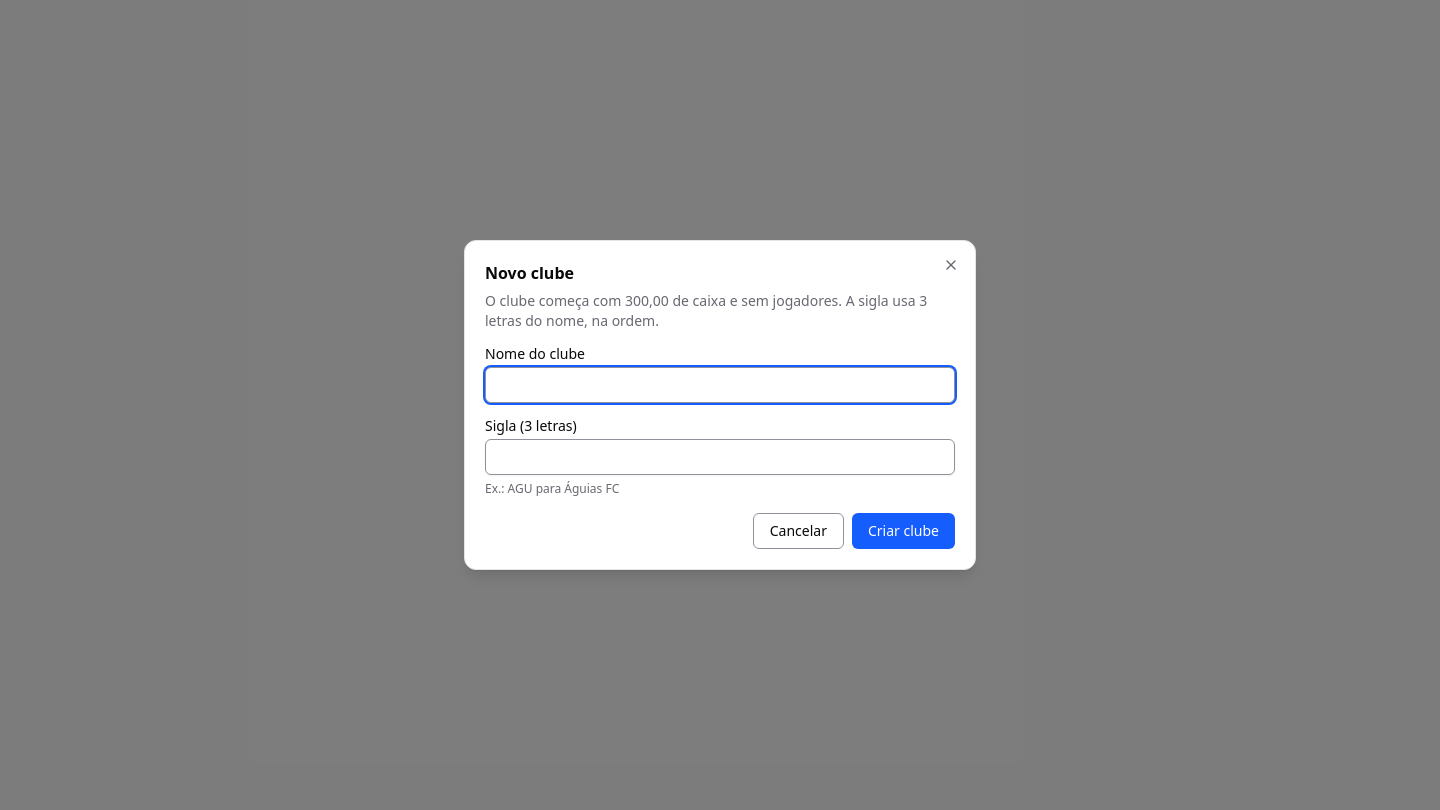
Test: CreateClubDialog › valida os campos antes de enviar e mostra a mensagem junto ao campo
In the field labelled "Nome do clube": x=720, y=385 [485,367,955,403], type "Ab"
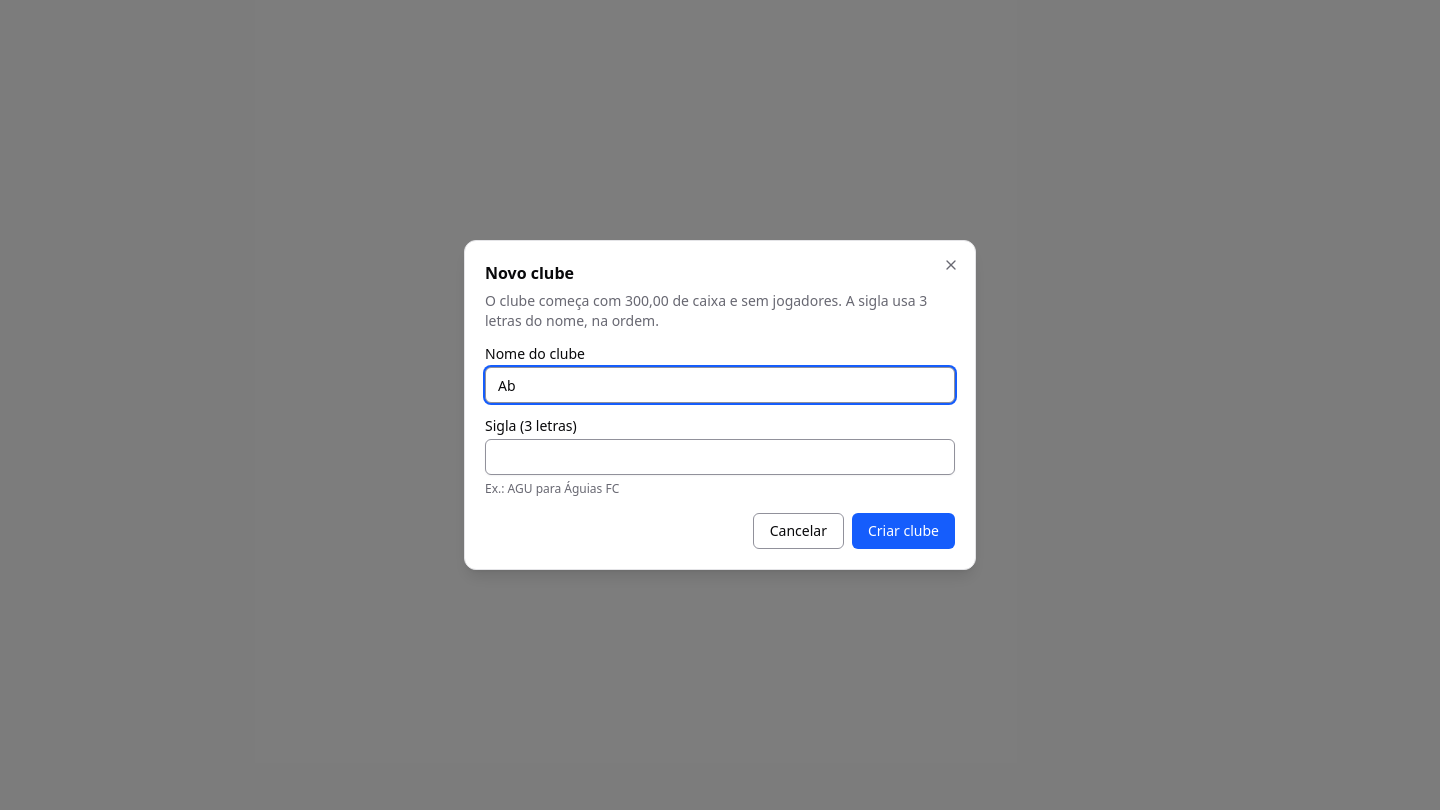
In the field labelled "Sigla (3 letras)": x=720, y=457 [485,439,955,475], type "A1"
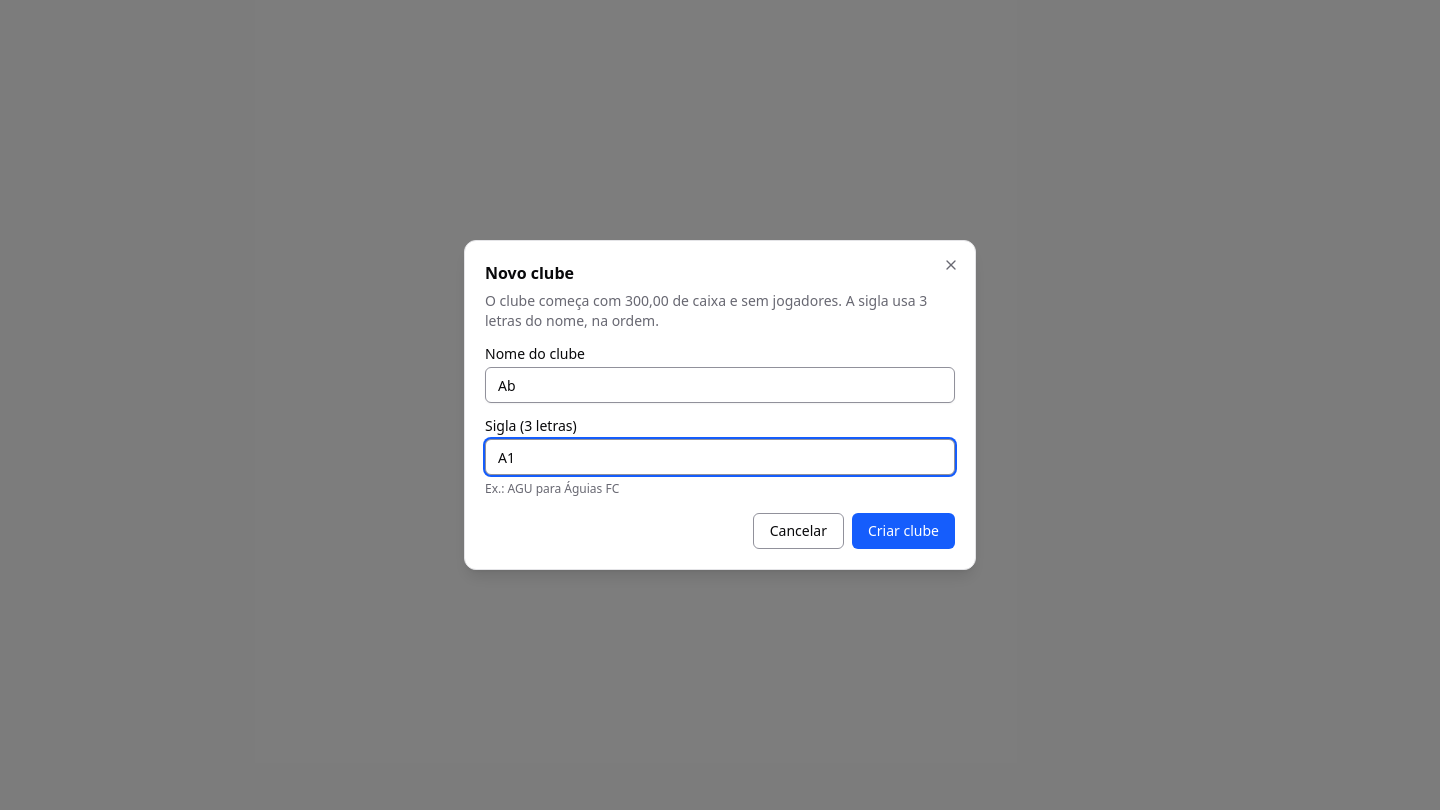
Click the button "Criar clube": x=904, y=531 [852,513,955,549]
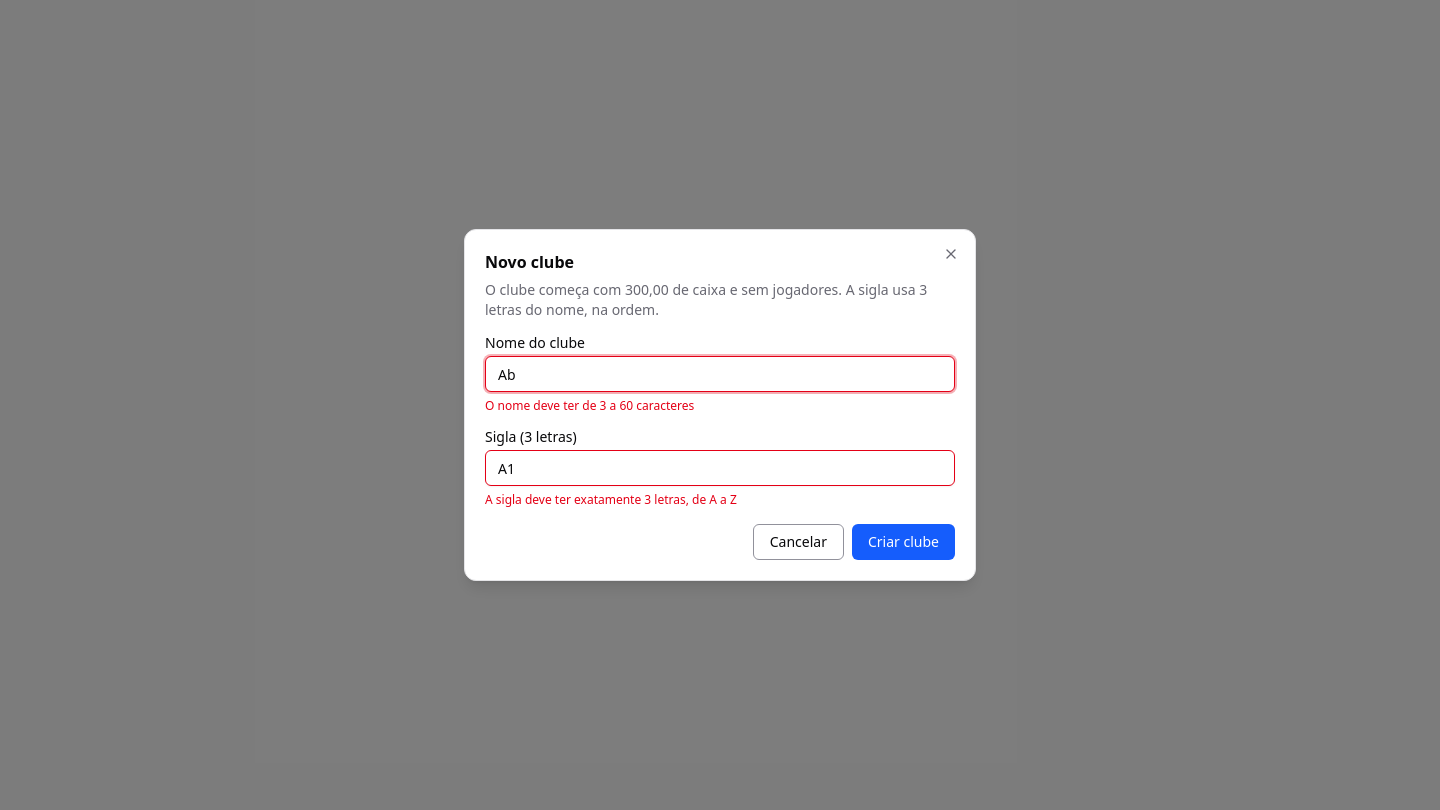
expect the text "O nome deve ter de 3 a 60 caracteres" is shown: met, box [485,397,694,414]
expect the text "A sigla deve ter exatamente 3 letras, de A a Z" is shown: met, box [485,491,737,508]
